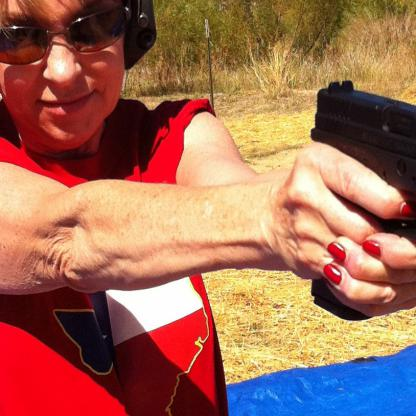gun: (306, 70, 416, 330)
